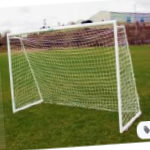goals: (6, 20, 143, 134)
